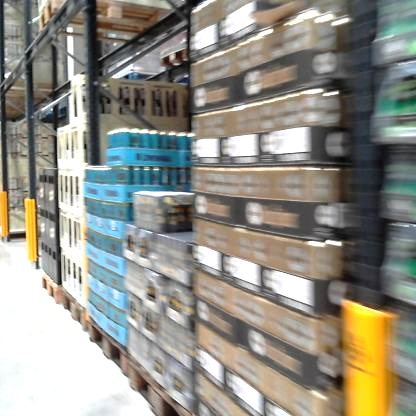pallets: (32, 270, 228, 414)
